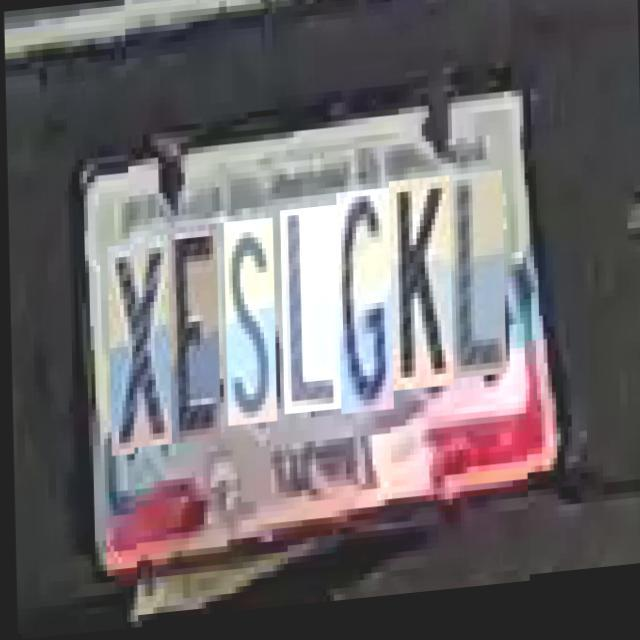E: (166, 228, 219, 448)
G: (336, 196, 392, 422)
K: (388, 185, 452, 399)
L: (279, 212, 339, 420), (448, 180, 504, 388)
S: (222, 224, 276, 431)
X: (106, 238, 170, 452)
